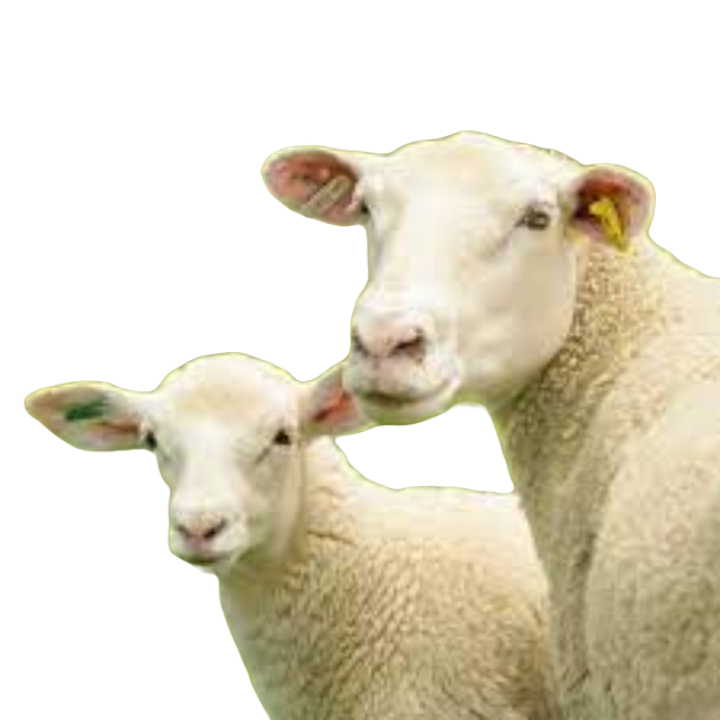Sheep: (260, 125, 719, 719), (16, 337, 351, 719)
